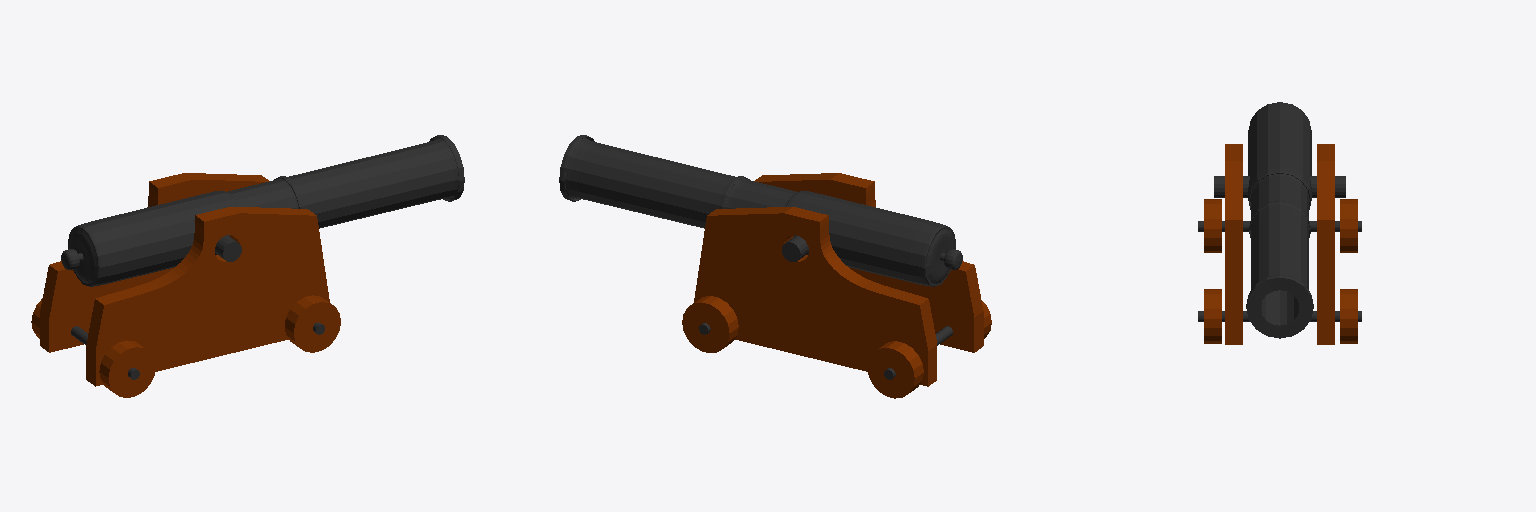
File: kanon2.obj
3 views of the same model, side by side, from view 1: azimuth 30°, elevation 25°; view 2: azimuth 150°, elevation 25°; view 3: azimuth 270°, elevation 25° (orthographic).
Parts seen in each view (by area): view 1: Line02, Line01, Line03, Cylinder05, Cylinder08; view 2: Line03, Line01, Line02, Cylinder06, Cylinder07; view 3: Line01, Line02, Line03, Cylinder07, Cylinder08, Cylinder05, Cylinder06.
Boxes of the visible parts, box(x1,y1,x2,y2) form: Line02: box(86, 207, 329, 386); Line01: box(61, 135, 464, 286); Line03: box(40, 173, 268, 352); Cylinder05: box(99, 340, 155, 397); Cylinder08: box(285, 295, 340, 352); Line03: box(694, 207, 936, 386); Line01: box(559, 135, 962, 286); Line02: box(755, 173, 983, 352); Cylinder06: box(867, 341, 923, 398); Cylinder07: box(682, 296, 738, 352); Line01: box(1246, 102, 1313, 338); Line02: box(1225, 144, 1242, 344); Line03: box(1317, 144, 1334, 344); Cylinder07: box(1340, 289, 1357, 343); Cylinder08: box(1204, 289, 1221, 343); Cylinder05: box(1204, 199, 1221, 252); Cylinder06: box(1340, 199, 1357, 252).
Size of the model in its own units: 484 by 178 by 180.